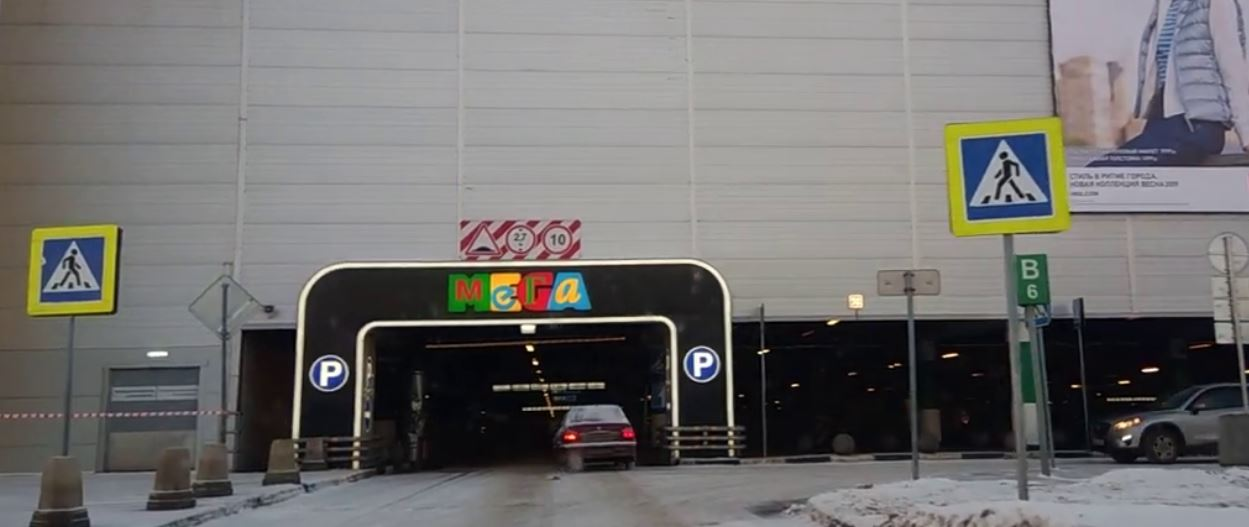Yaya Gecidi: (967, 138, 1067, 223), (39, 243, 97, 303)
